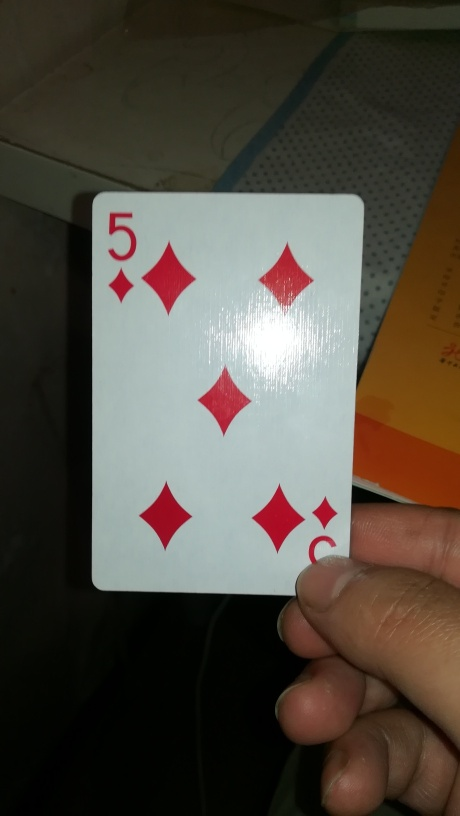fk 5: (87, 187, 367, 603)
